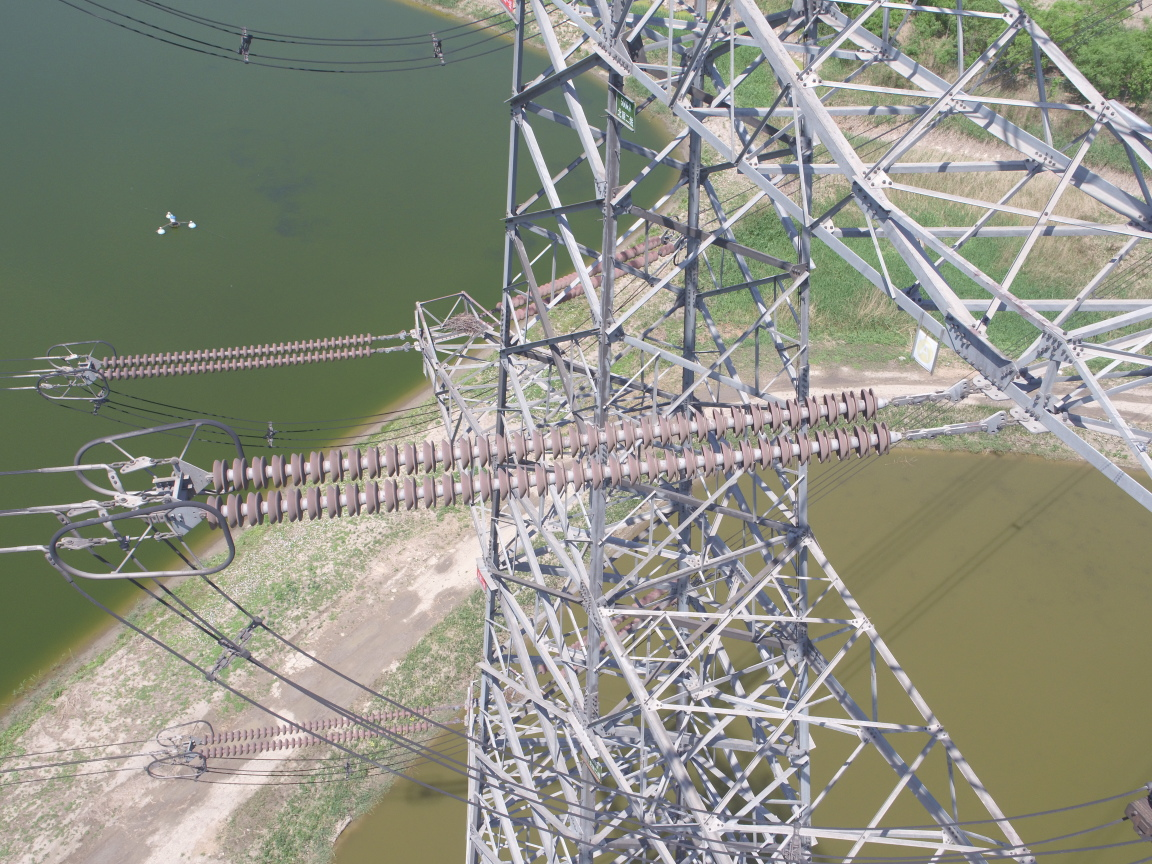insulator: (189, 386, 922, 534), (89, 329, 392, 382), (185, 704, 449, 761)
